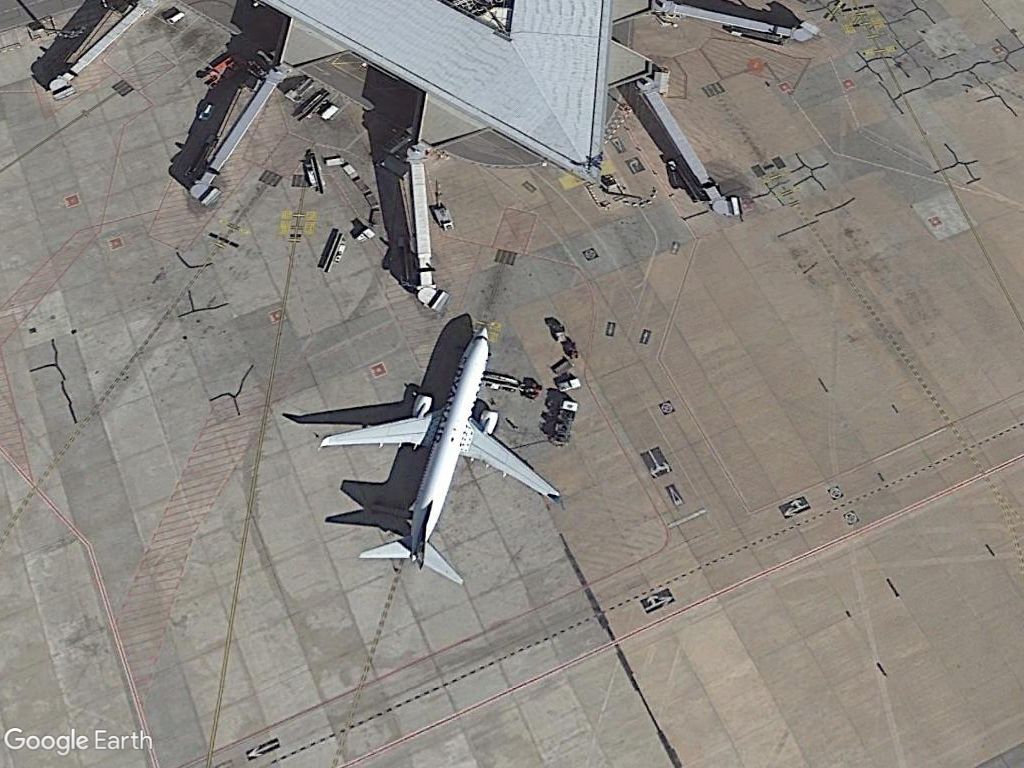airliner: (316, 312, 566, 591)
